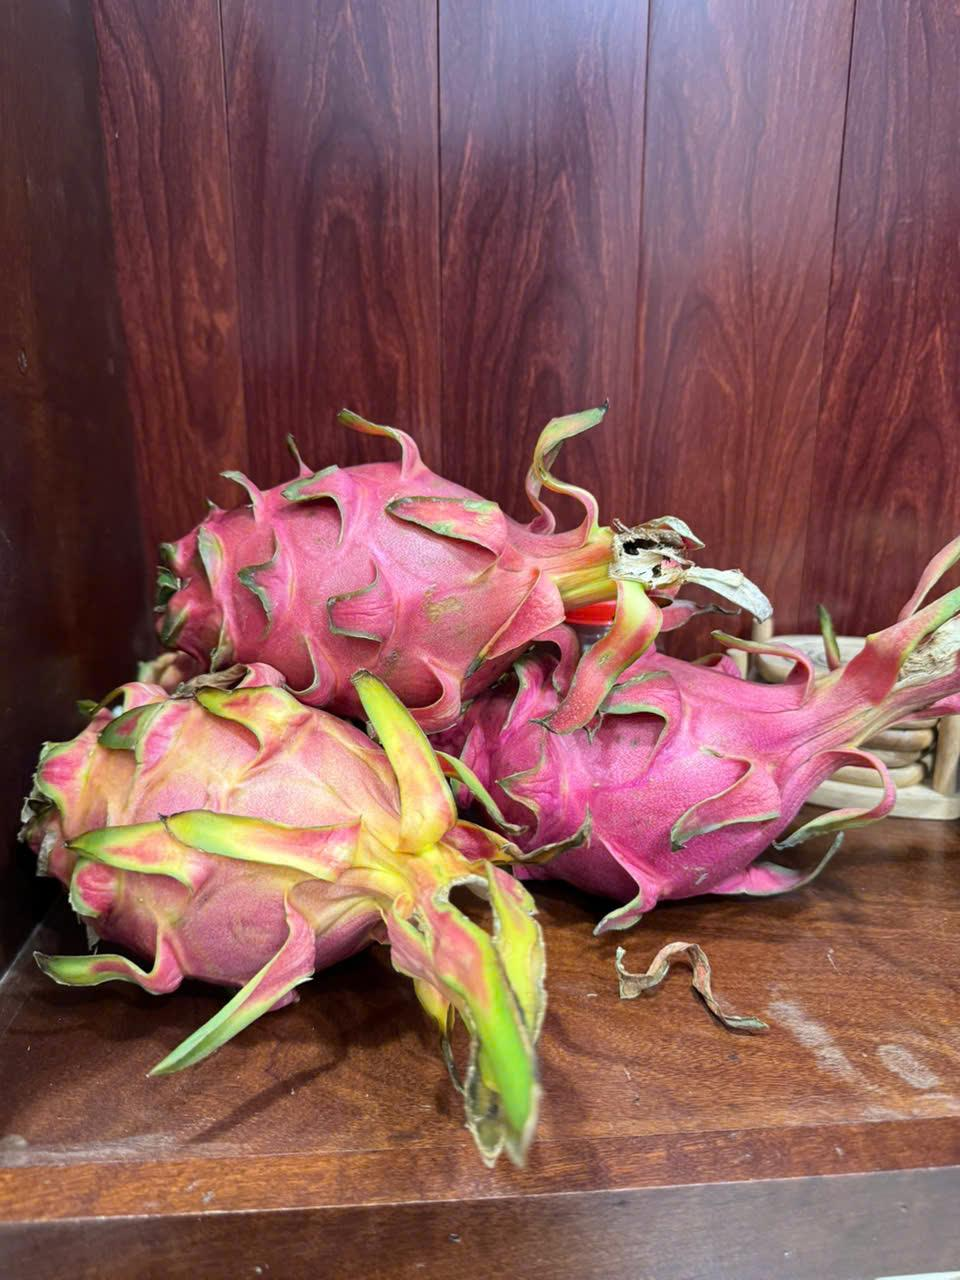dragon fruit: (22, 658, 554, 1167), (122, 418, 765, 726), (470, 640, 960, 954)
